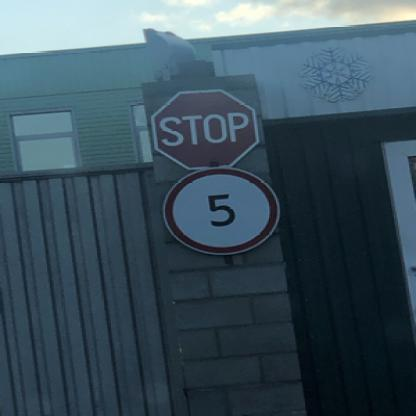speedlimit: (160, 166, 278, 254)
stop: (148, 89, 256, 168)
